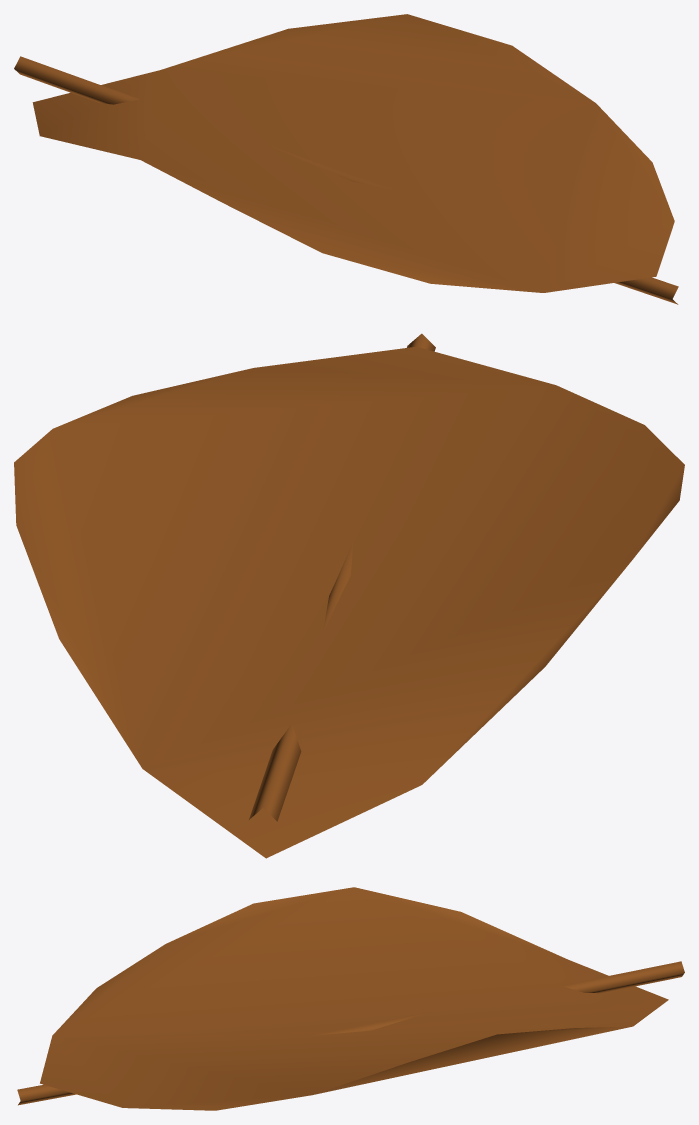
Rendered from fallen_leaf.glb.
3 renders of one model, top to bottom at view 1: azimuth 30°, elevation 25°; view 2: azimuth 150°, elevation 25°; view 3: azimuth 270°, elevation 25°, orthographic. The views are drawn at different scales.
Visible parts, largest first — view 1: fallen_leaf; view 2: fallen_leaf; view 3: fallen_leaf.
Part boxes in pixels (left/top/right/bottom): fallen_leaf: left=14, top=14, right=678, bottom=304; fallen_leaf: left=14, top=333, right=684, bottom=858; fallen_leaf: left=17, top=887, right=684, bottom=1110.
Size of the model in its own units: 8.87 by 1.84 by 13.81.
